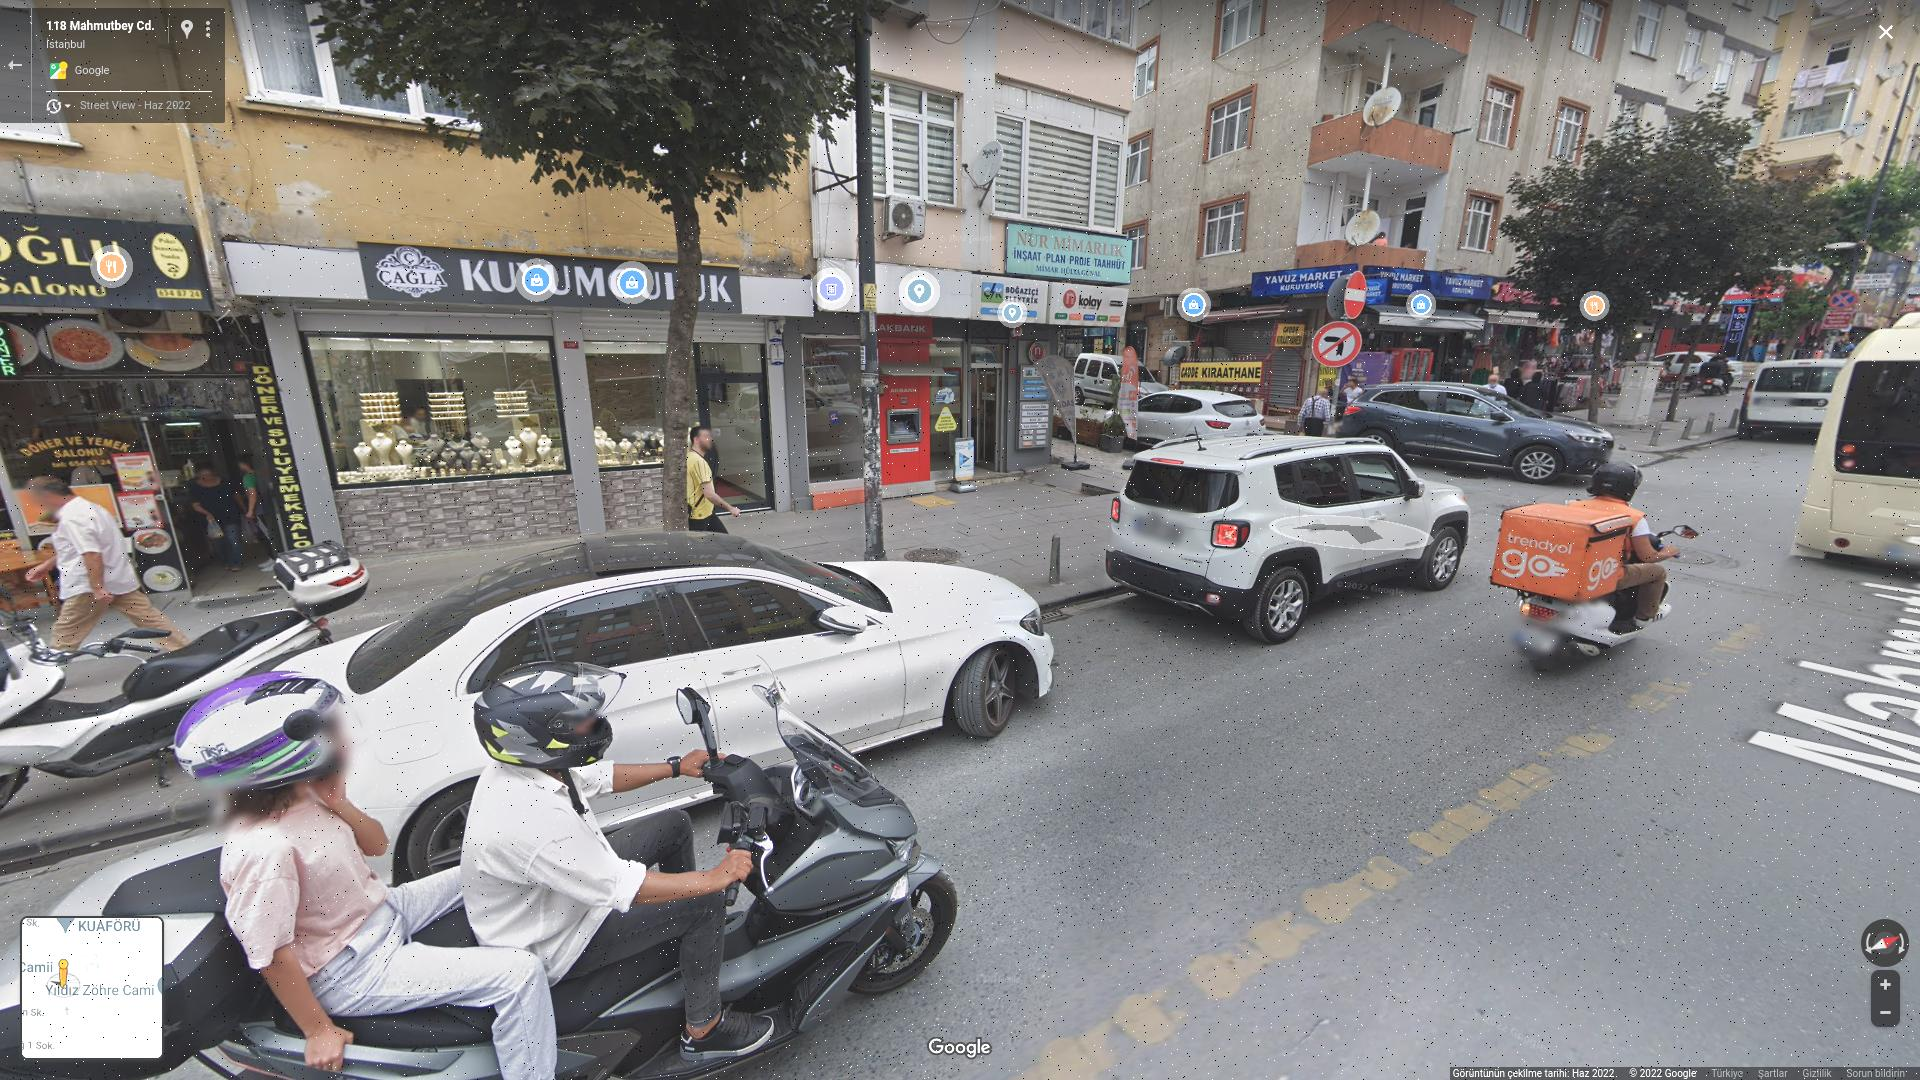leftturnsareforbidden: (1311, 322, 1361, 368)
